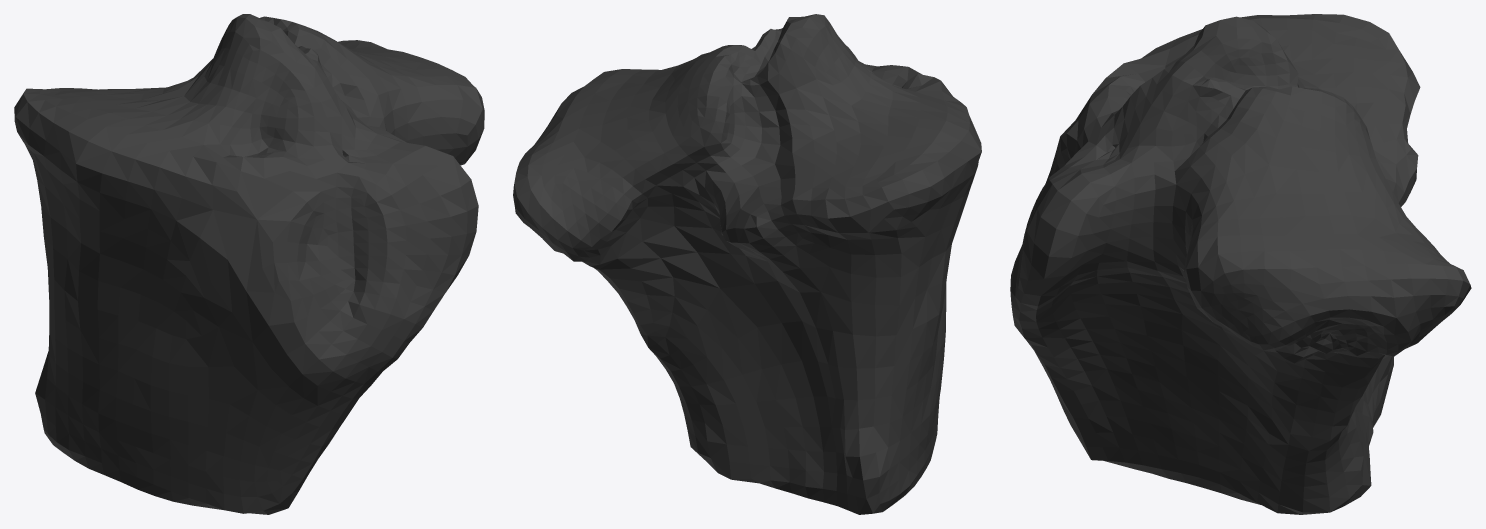
File: Tibia.glb
3 views of the same model, side by side, from view 1: azimuth 30°, elevation 25°; view 2: azimuth 150°, elevation 25°; view 3: azimuth 270°, elevation 25° (orthographic). The views are drawn at different scales.
Parts seen in each view (by area): view 1: Tibia; view 2: Tibia; view 3: Tibia.
Boxes of the visible parts, x1=… form: Tibia: x1=14, y1=14, x2=484, y2=514; Tibia: x1=513, y1=14, x2=981, y2=514; Tibia: x1=1010, y1=14, x2=1471, y2=514.
Size of the model in its own units: 121 by 122 by 109.
1 material, 1 textured.
